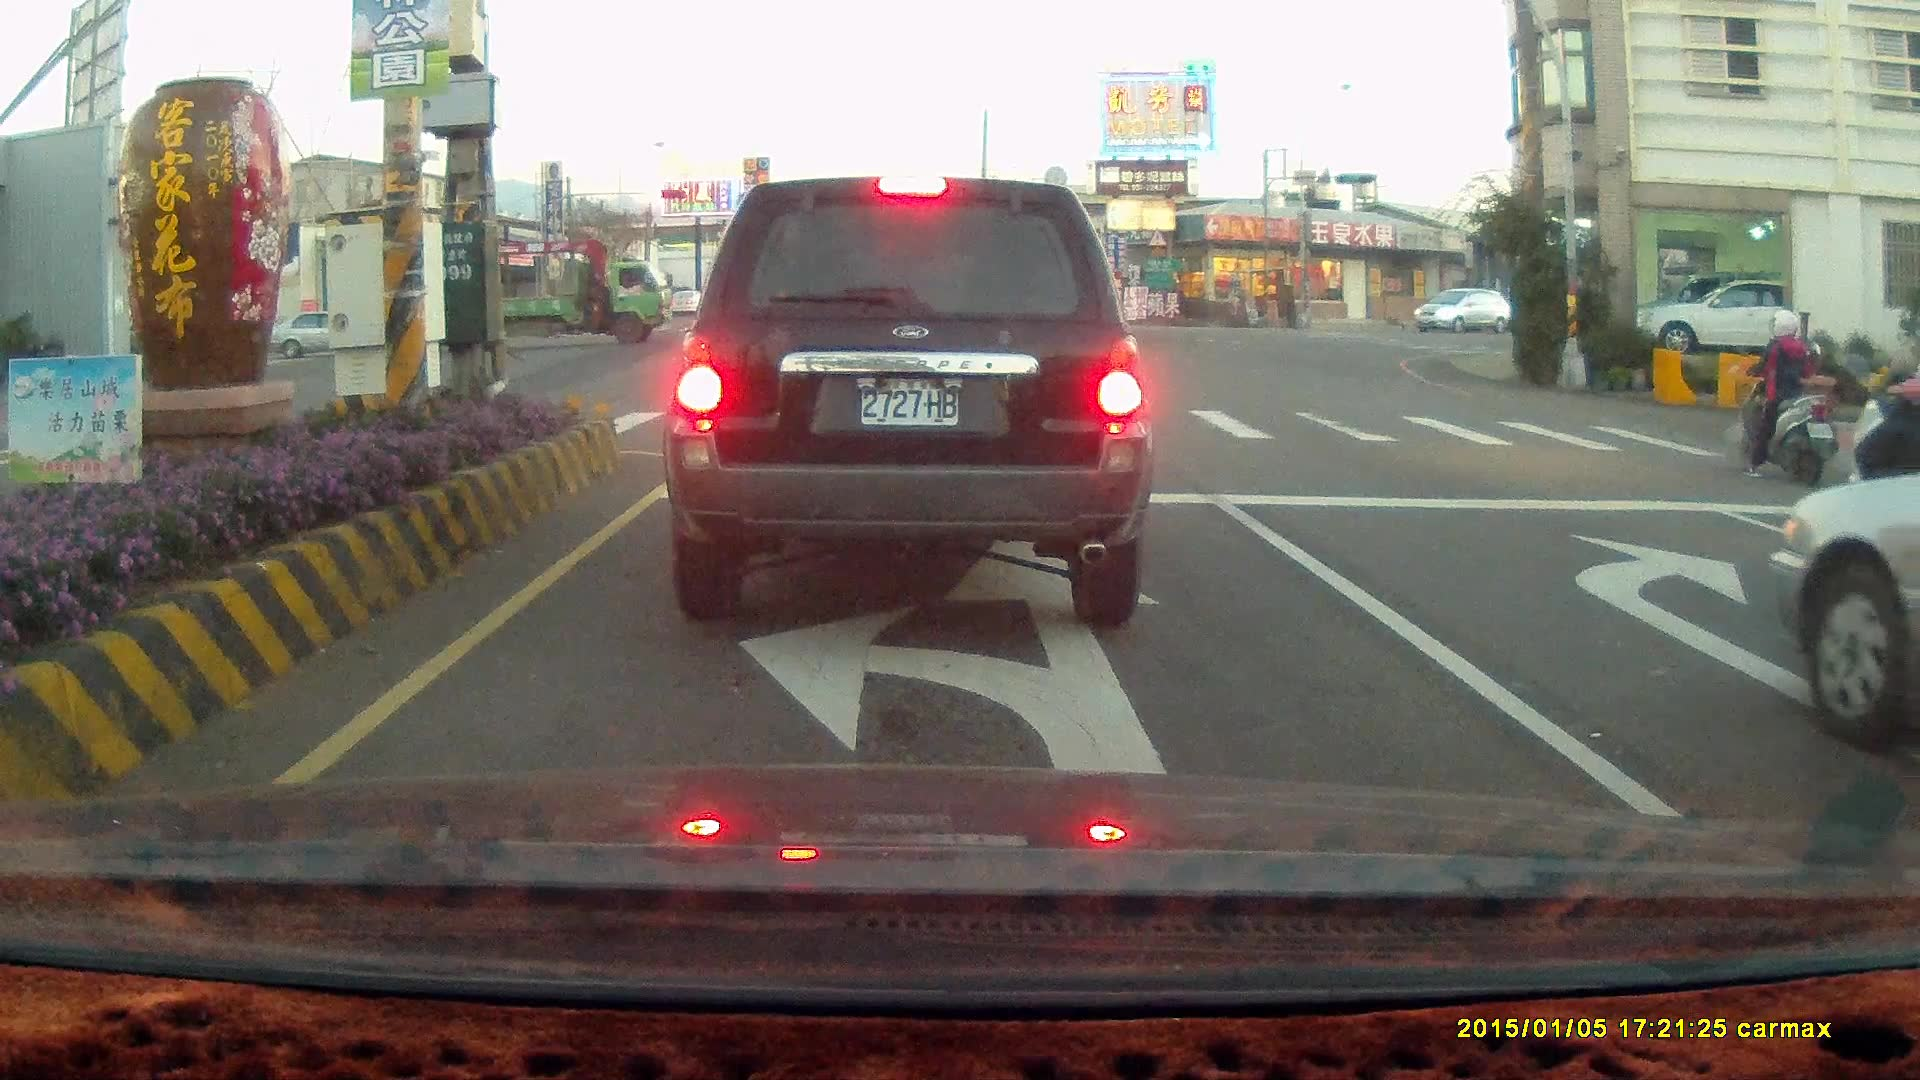rider: (1727, 305, 1834, 484), (1848, 346, 1920, 509)
vehicle: (660, 173, 1155, 630), (1771, 458, 1920, 774), (1628, 275, 1835, 355), (500, 254, 676, 347), (1642, 275, 1784, 356), (1896, 493, 1920, 836), (1412, 289, 1512, 338)
